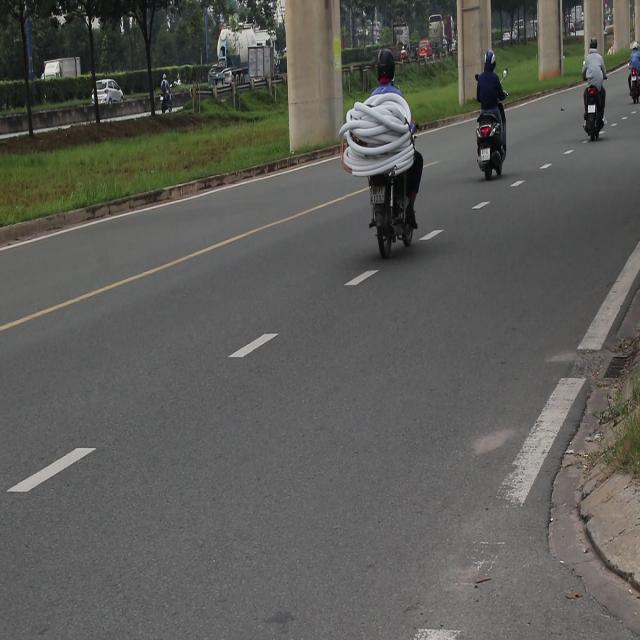car: (95, 80, 123, 104)
motorbike: (365, 166, 422, 264), (243, 34, 282, 94), (475, 110, 508, 180), (586, 90, 608, 146), (158, 82, 180, 121), (623, 79, 636, 111)
